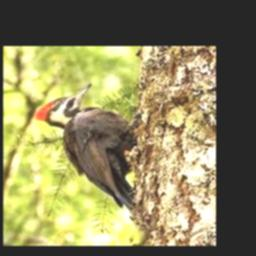Woodpecker: (35, 83, 138, 211)
